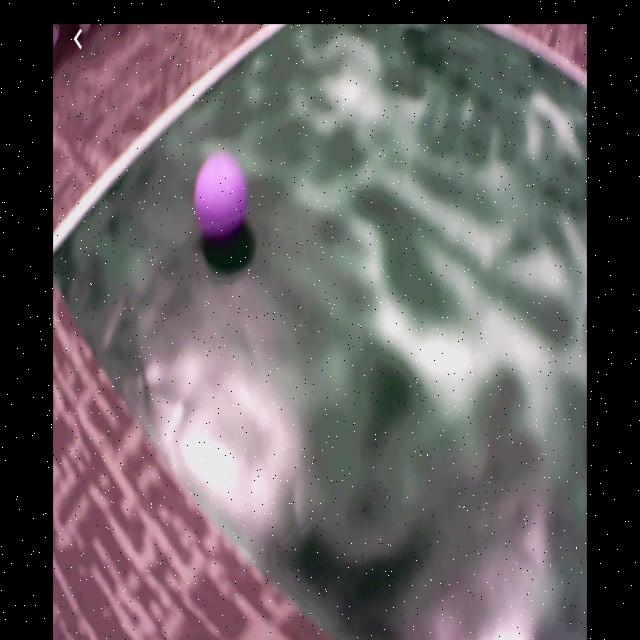ball: (195, 160, 248, 237)
